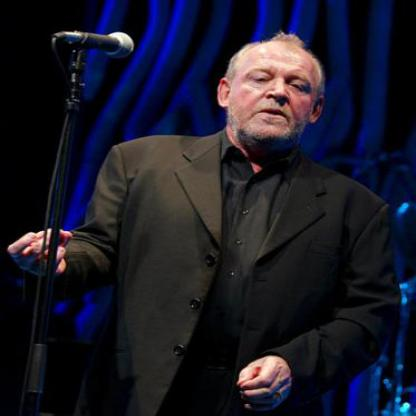face: (227, 41, 321, 144)
